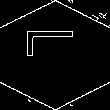L_E: (26, 40, 84, 70)
